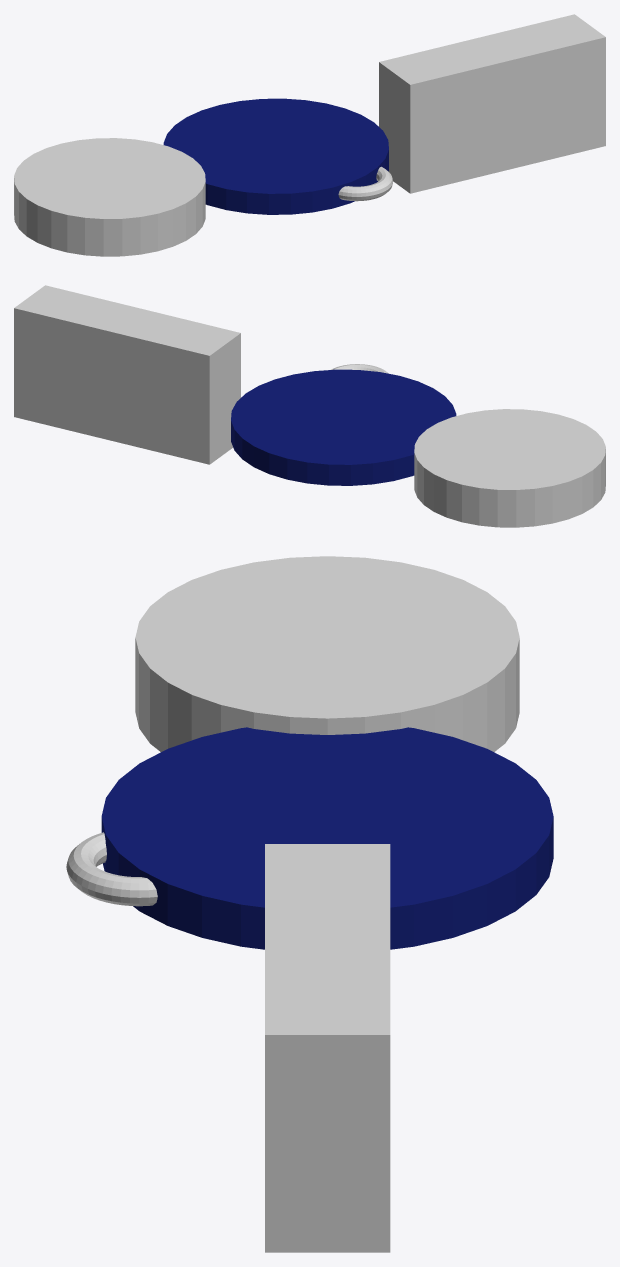
Rendered from expressblend.dae.
3 views of the same model, one above another, from view 1: azimuth 30°, elevation 25°; view 2: azimuth 150°, elevation 25°; view 3: azimuth 270°, elevation 25° (orthographic). The views are drawn at different scales.
Parts seen in each view (by area): view 1: Cube, Cylinder, Cylinder-001, Torus; view 2: Cube, Cylinder, Cylinder-001; view 3: Cylinder, Cylinder-001, Cube, Torus.
Part boxes in pixels (x1,y1,x2,y2): Cube: [379, 14, 605, 193]; Cylinder: [163, 98, 388, 214]; Cylinder-001: [14, 138, 205, 256]; Torus: [338, 166, 393, 201]; Cube: [14, 285, 240, 464]; Cylinder: [231, 369, 456, 485]; Cylinder-001: [414, 409, 605, 527]; Cylinder: [101, 727, 553, 949]; Cylinder-001: [135, 556, 519, 751]; Cube: [265, 844, 390, 1252]; Torus: [66, 832, 157, 906].
Bounding box in the file's own units: 5.76 × 1.06 × 2.16.
